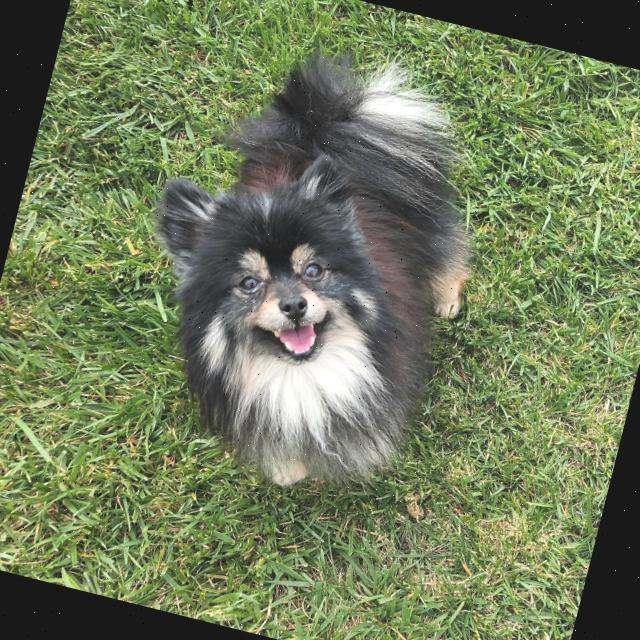pomeranian_dog: (104, 109, 434, 458)
